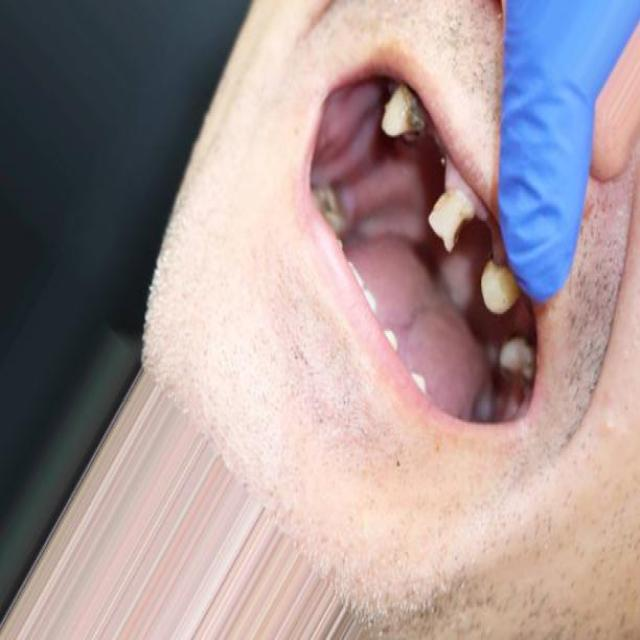caries: (428, 173, 475, 256), (382, 77, 428, 150)
